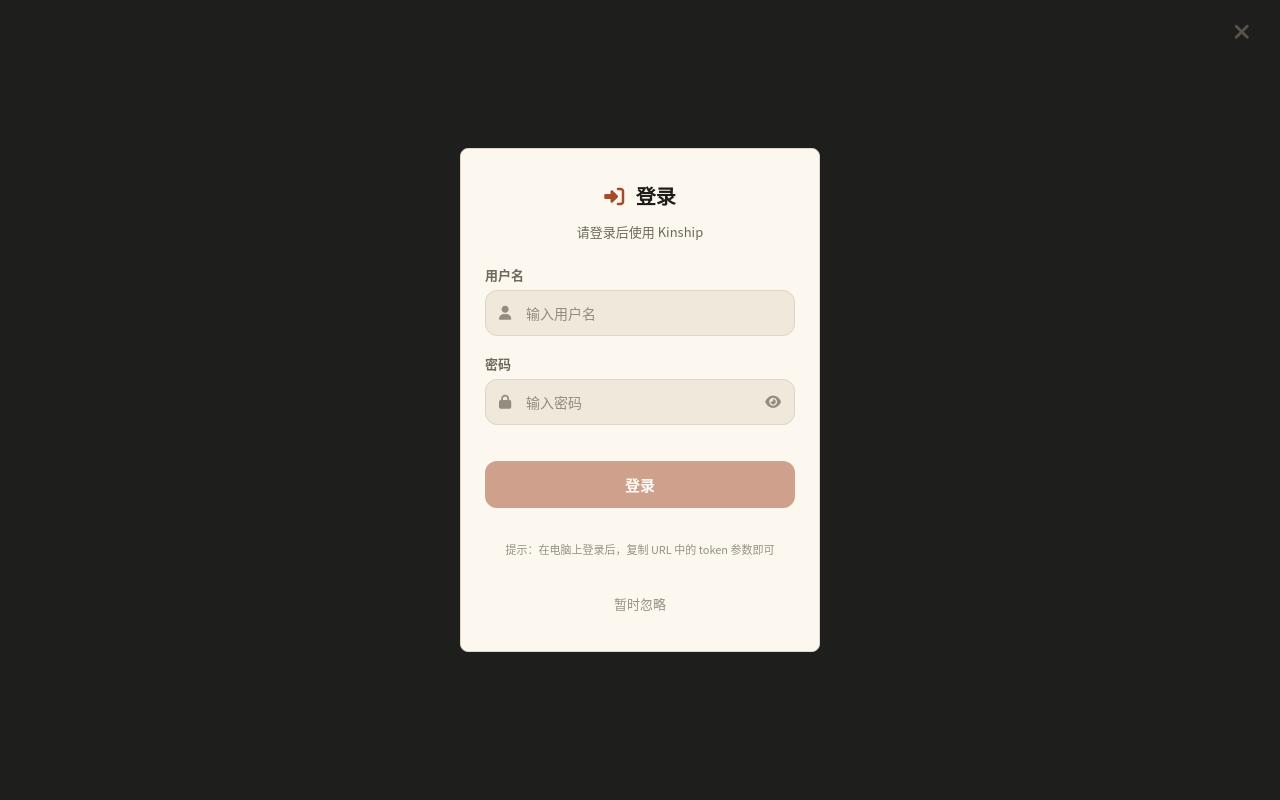
it: LoginOverlay › submit button state › 两个输入框都有内容时按钮可用
The width and height of the screenshot is (1280, 800).
Type "user" into the field with id "login-username" at (640, 313), box [485, 290, 795, 336]
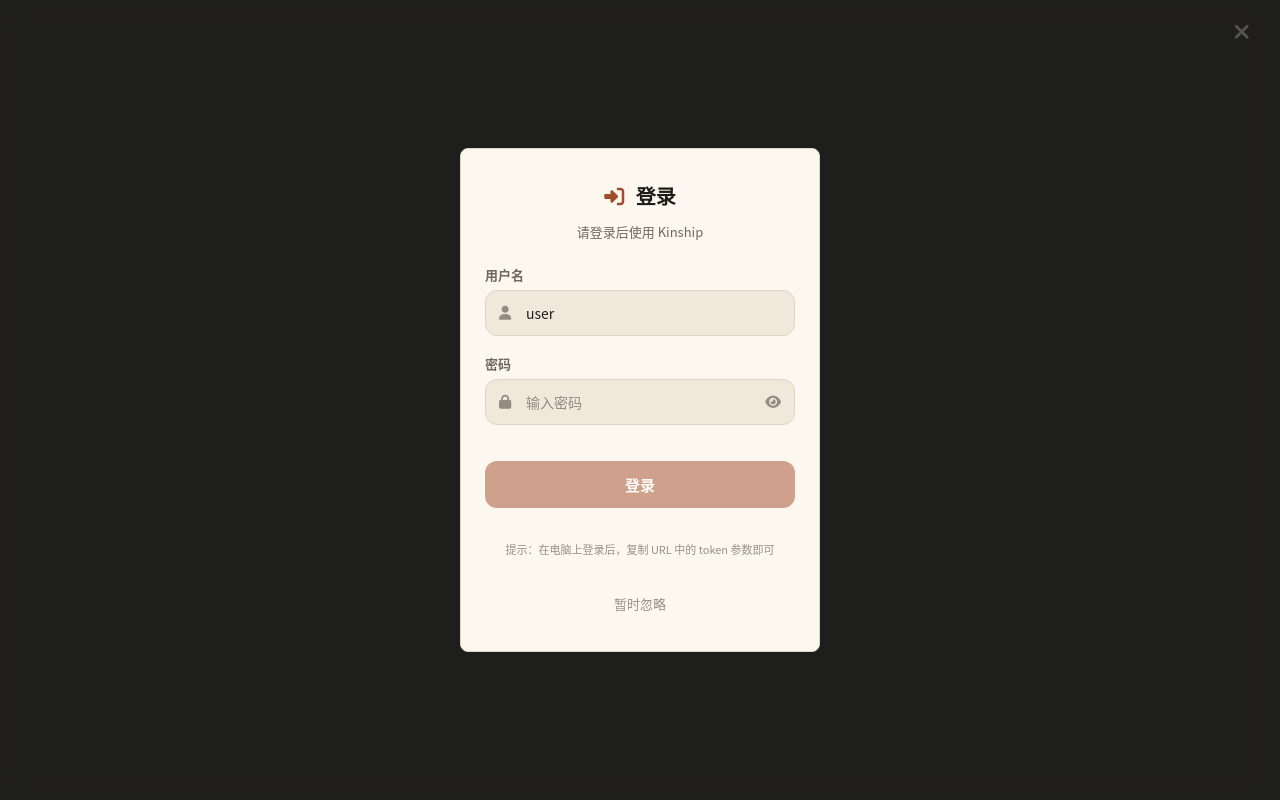
Type "pass" into the password field with id "login-password" at (640, 402), box [485, 379, 795, 425]
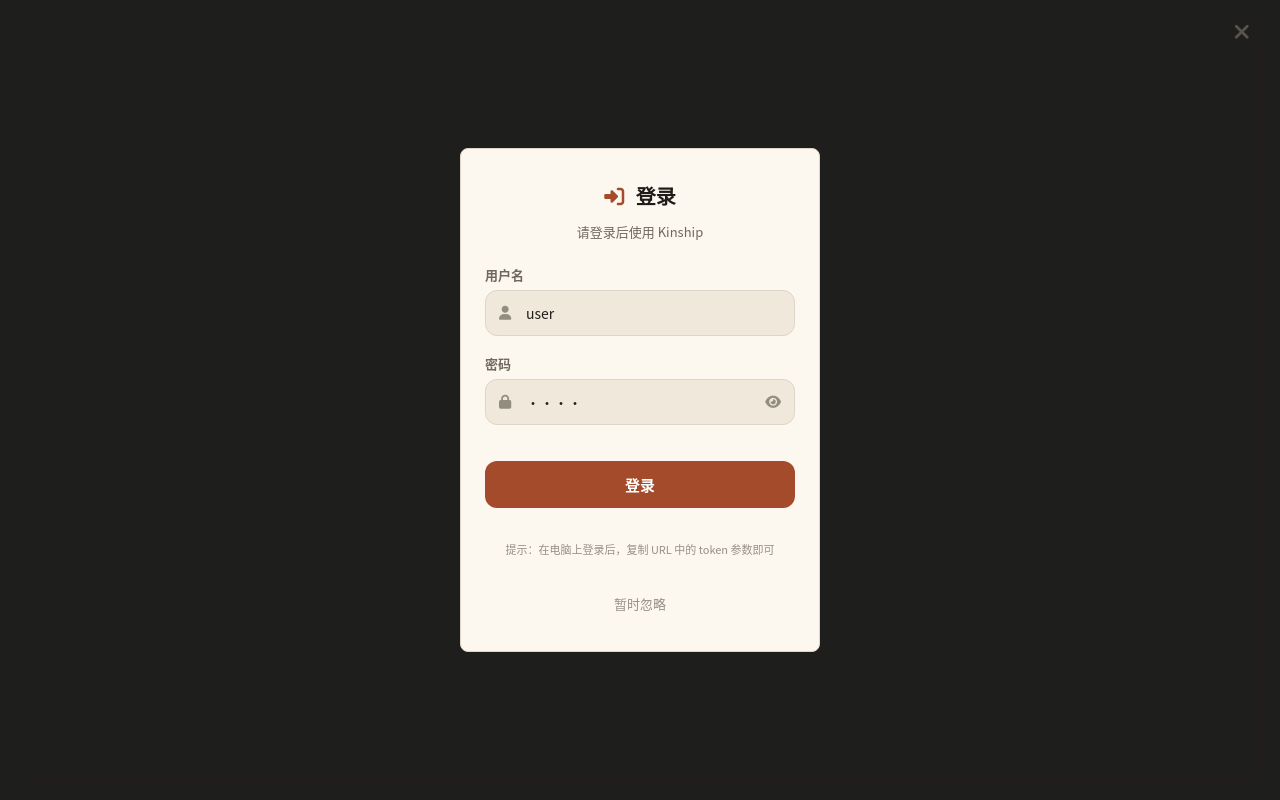
Expected: the button with class "login-btn" is enabled, [485, 461, 795, 508]
